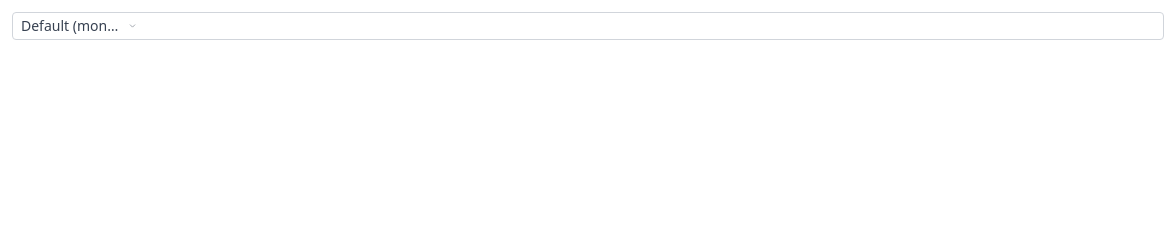
Test case: FontFamilyInput › loads installed families and selects one
Later steps or results of the test are not shown.
Click the button with aria-label "Font Family": point(79, 26) [13,13,145,39]
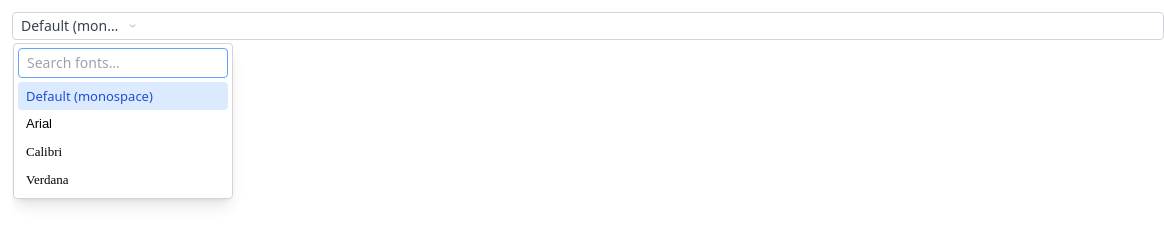
Expected: the option "Calibri" is shown, [18,138,228,166]
